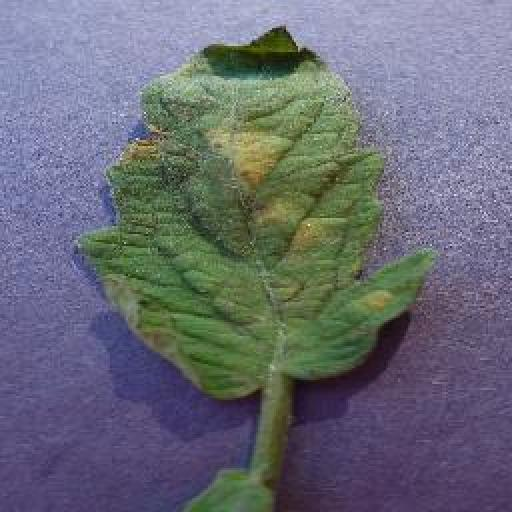disease_tomato: (69, 23, 436, 401)
